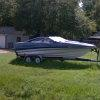Boat: (10, 28, 99, 74)
